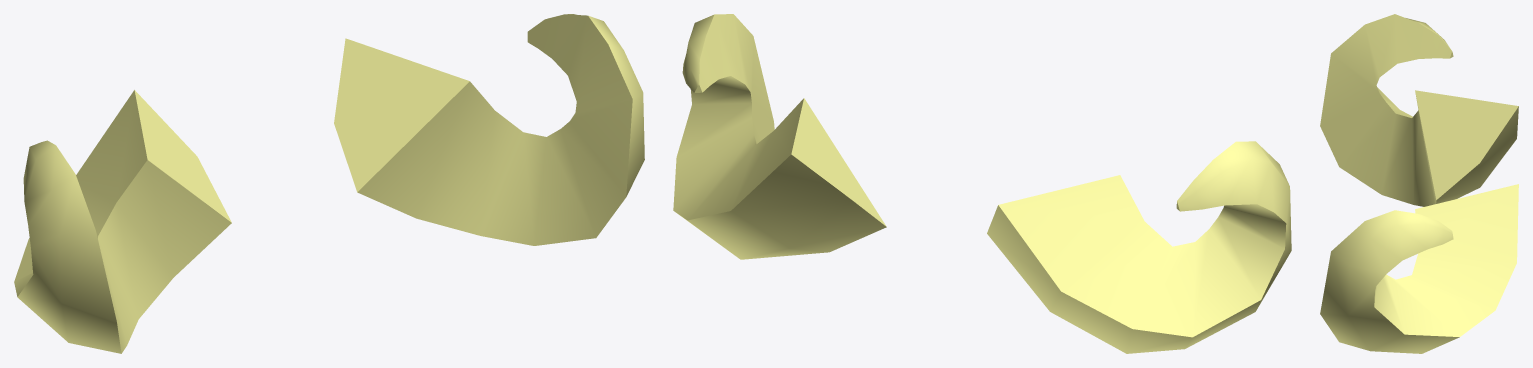
The model's file is Goat.FBX.
3 renders of one model, left to right at view 1: azimuth 30°, elevation 25°; view 2: azimuth 150°, elevation 25°; view 3: azimuth 270°, elevation 25°, orthographic. The views are drawn at different scales.
Parts seen in each view (by area): view 1: Goat; view 2: Goat; view 3: Goat.
Boxes of the visible parts, <box> form: Goat: <box>14,14,644,353</box>; Goat: <box>673,14,1291,353</box>; Goat: <box>1320,14,1518,353</box>.
Bounding box in the file's own units: 1.42 × 0.4656 × 0.5311.
